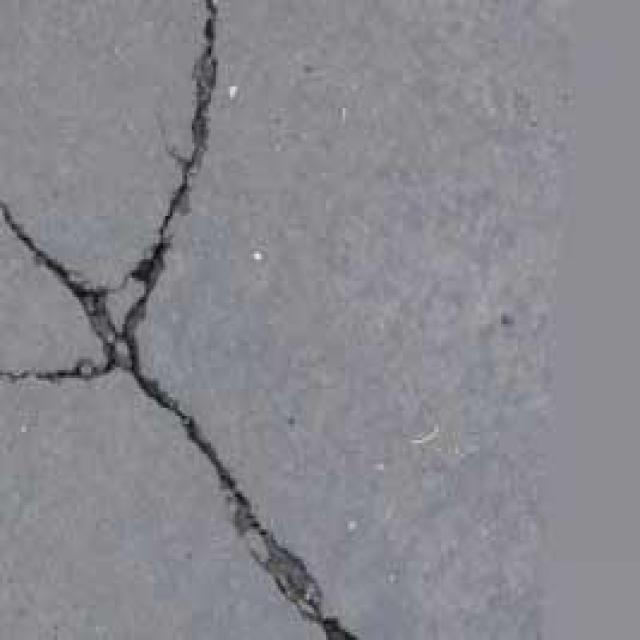multi-branched crack: (0, 0, 357, 637)
